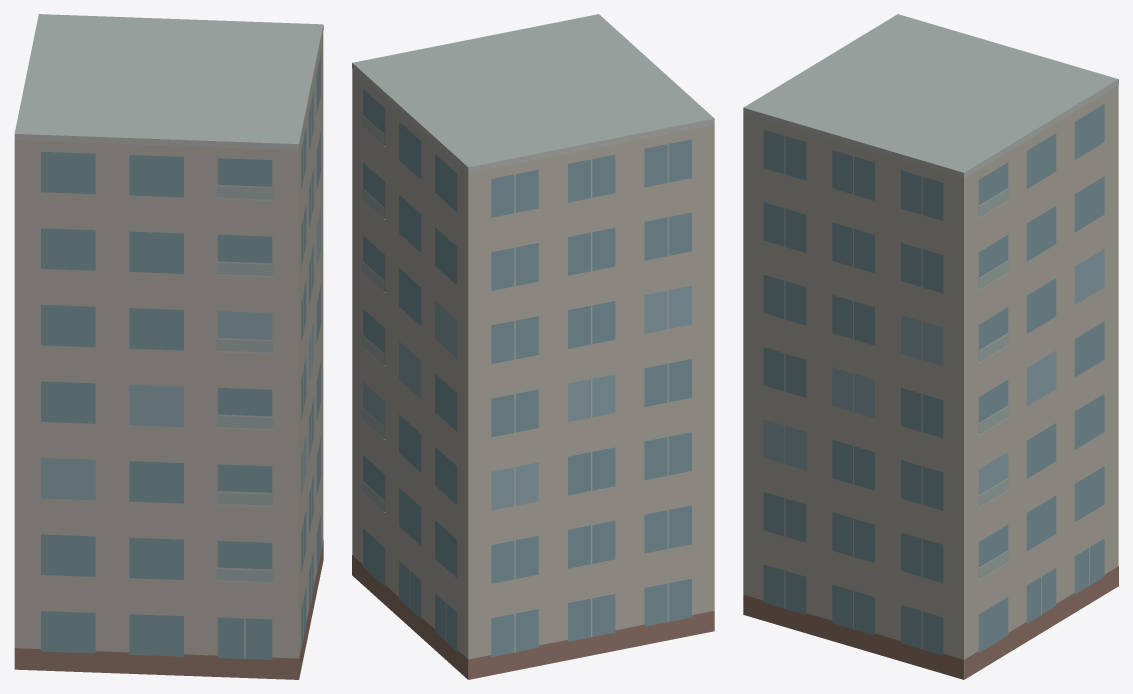
The model's file is residential-81962c17-1b7d-4bca-b926-285b93171d28.glb.
3 renders of one model, left to right at view 1: azimuth 30°, elevation 25°; view 2: azimuth 150°, elevation 25°; view 3: azimuth 270°, elevation 25°, orthographic. The views are drawn at different scales.
Parts seen in each view (by area): view 1: residential-81962c17-1b7d-4bca-b926-285b93171d28.tmp; view 2: residential-81962c17-1b7d-4bca-b926-285b93171d28.tmp; view 3: residential-81962c17-1b7d-4bca-b926-285b93171d28.tmp.
Boxes of the visible parts, x1=… form: residential-81962c17-1b7d-4bca-b926-285b93171d28.tmp: x1=14, y1=14, x2=323, y2=679; residential-81962c17-1b7d-4bca-b926-285b93171d28.tmp: x1=352, y1=14, x2=714, y2=679; residential-81962c17-1b7d-4bca-b926-285b93171d28.tmp: x1=743, y1=14, x2=1118, y2=679.
Bounding box in the file's own units: 14.35 × 21.35 × 14.34.
